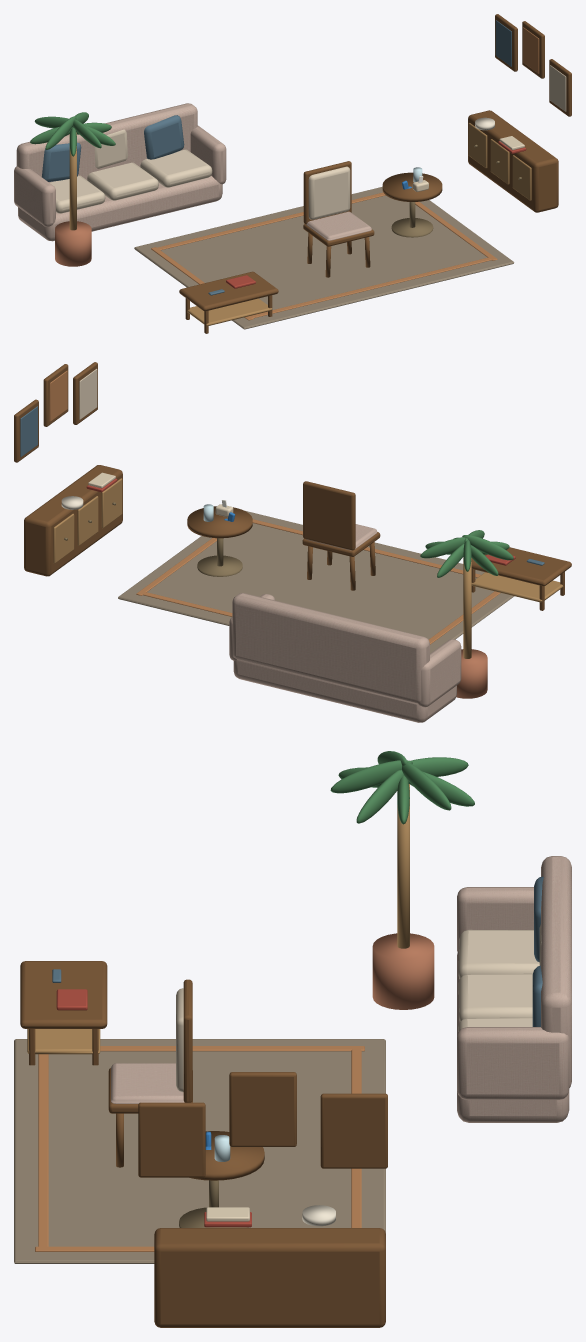
The model's file is resp-001-villa-dressing.glb.
3 views of the same model, one above another, from view 1: azimuth 30°, elevation 25°; view 2: azimuth 150°, elevation 25°; view 3: azimuth 270°, elevation 25° (orthographic). The views are drawn at different scales.
Parts seen in each view (by area): view 1: villa_woven_rug, villa_sofa_plinth, villa_sofa_back, villa_media_console, villa_coffee_table_top, asthma_chair_back_cushion, villa_sofa_arm_-2.72, villa_sofa_seat_1, villa_sofa_seat_2, date_palm_pot, villa_loose_cushion_2, villa_sofa_arm_-0.36 (+22 smaller); view 2: villa_woven_rug, villa_sofa_back, villa_media_console, villa_sofa_plinth, asthma_chair_back_frame, villa_sofa_arm_-2.72, villa_coffee_table_top, side_table_top, villa_coffee_table_shelf, date_palm_pot, date_palm_trunk, console_door_0.88 (+14 smaller); view 3: villa_woven_rug, villa_media_console, villa_sofa_arm_-0.36, villa_sofa_back, villa_coffee_table_top, wall_frame_0, wall_frame_2, wall_frame_1, date_palm_pot, villa_sofa_arm_-2.72, villa_sofa_seat_0, villa_sofa_seat_1 (+15 smaller).
Part boxes in pixels (x1,y1,x2,y2): villa_woven_rug: (134, 186, 514, 329); villa_sofa_plinth: (18, 175, 222, 241); villa_sofa_back: (16, 103, 197, 182); villa_media_console: (468, 110, 558, 212); villa_coffee_table_top: (179, 271, 278, 311); asthma_chair_back_cushion: (308, 166, 350, 219); villa_sofa_arm_-2.72: (14, 166, 55, 226); villa_sofa_seat_1: (87, 162, 158, 200); villa_sofa_seat_2: (140, 149, 212, 187); date_palm_pot: (55, 221, 91, 266); villa_loose_cushion_2: (144, 115, 184, 159); villa_sofa_arm_-0.36: (190, 125, 226, 184); villa_woven_rug: (118, 511, 514, 653); villa_sofa_back: (232, 593, 429, 703); villa_media_console: (24, 465, 122, 576); villa_sofa_plinth: (233, 659, 456, 722); asthma_chair_back_frame: (303, 481, 355, 550); villa_sofa_arm_-2.72: (418, 639, 461, 707); villa_coffee_table_top: (471, 547, 571, 586); side_table_top: (187, 506, 252, 538); villa_coffee_table_shelf: (471, 572, 563, 602); date_palm_pot: (456, 649, 487, 698); date_palm_trunk: (463, 557, 471, 658); console_door_0.88: (53, 513, 74, 563); villa_woven_rug: (14, 1039, 385, 1263); villa_media_console: (154, 1228, 385, 1327); villa_sofa_arm_-0.36: (457, 1027, 569, 1099); villa_sofa_back: (541, 856, 571, 1087); villa_coffee_table_top: (20, 961, 107, 1028); wall_frame_0: (320, 1093, 387, 1168); wall_frame_2: (138, 1102, 205, 1177); wall_frame_1: (229, 1072, 296, 1146); date_palm_pot: (372, 933, 434, 1009); villa_sofa_arm_-2.72: (457, 887, 533, 952); villa_sofa_seat_0: (458, 929, 539, 978); villa_sofa_seat_1: (458, 973, 532, 1021).
Size of the model in its own units: 6.32 by 2.11 by 3.98.
16 materials, 1 textured.
